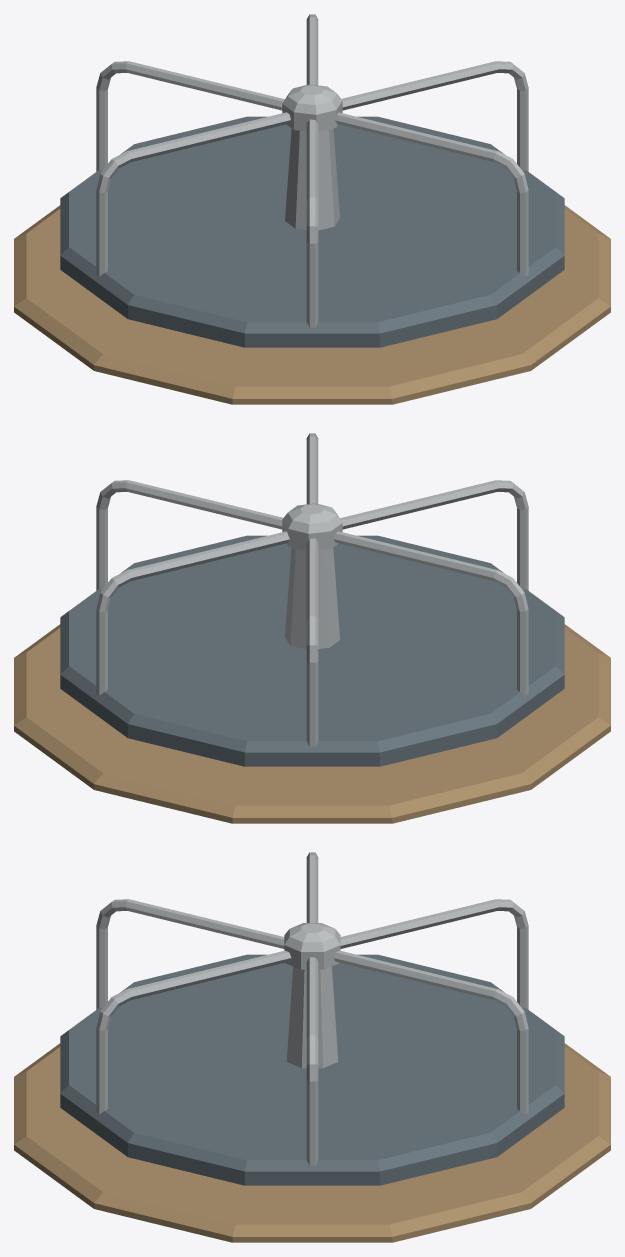
The model's file is roundabout.glb.
The picture shows the model from 3 angles, top to bottom: view 1: azimuth 30°, elevation 25°; view 2: azimuth 150°, elevation 25°; view 3: azimuth 270°, elevation 25°; orthographic projection.
Parts seen in each view (by area): view 1: platter, playground-roundabout; view 2: platter, playground-roundabout; view 3: platter, playground-roundabout.
Part boxes in pixels (x1=…): platter: x1=60, y1=14, x2=564, y2=347; playground-roundabout: x1=14, y1=205, x2=610, y2=404; platter: x1=60, y1=433, x2=564, y2=766; playground-roundabout: x1=14, y1=624, x2=610, y2=823; platter: x1=60, y1=852, x2=564, y2=1185; playground-roundabout: x1=14, y1=1043, x2=610, y2=1242.
Size of the model in its own units: 2.74 by 0.955 by 2.74.
